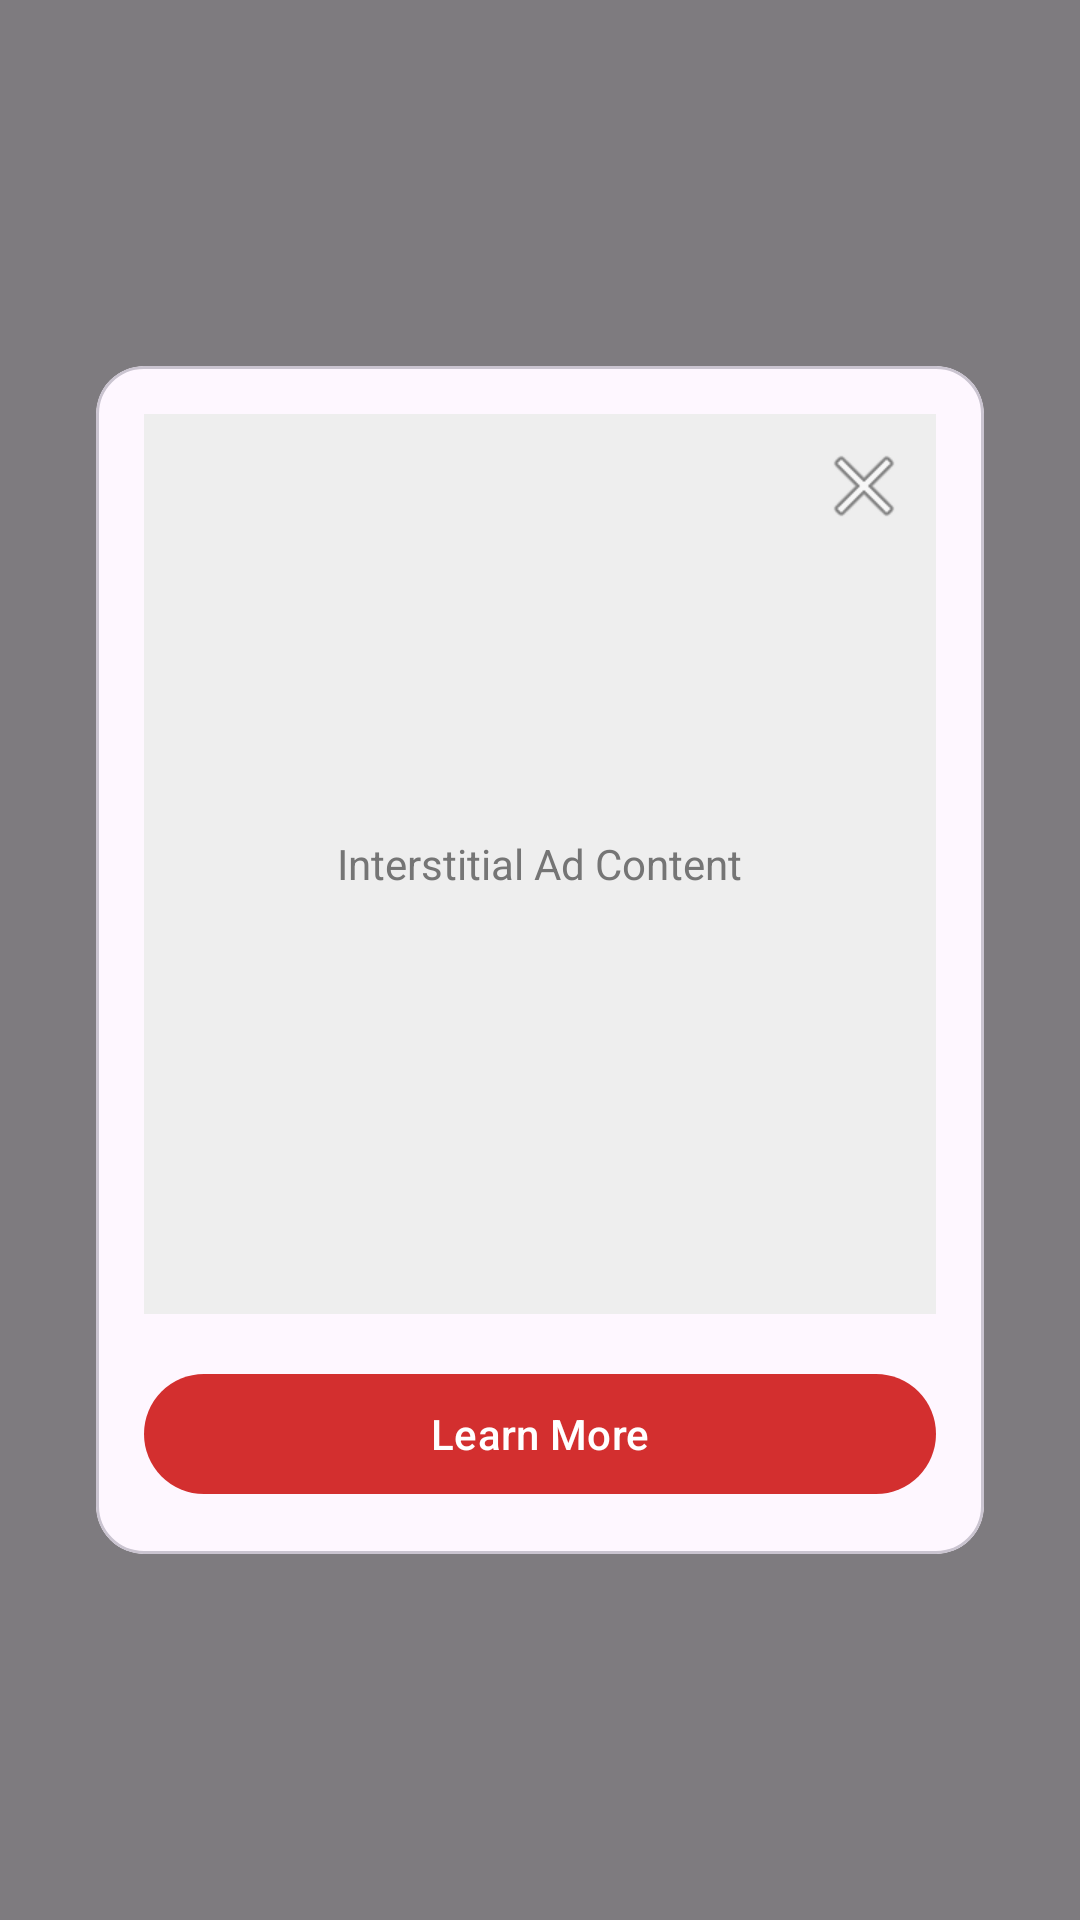

Locate icon controls on the screen. Image size 1080px x 1920px, boxes as (x1, y1, x2, y2).
close clear cancel: (834, 456, 894, 516)
